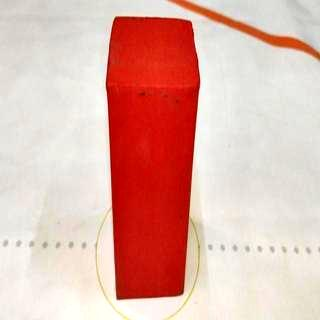redbox: (111, 13, 186, 297)
